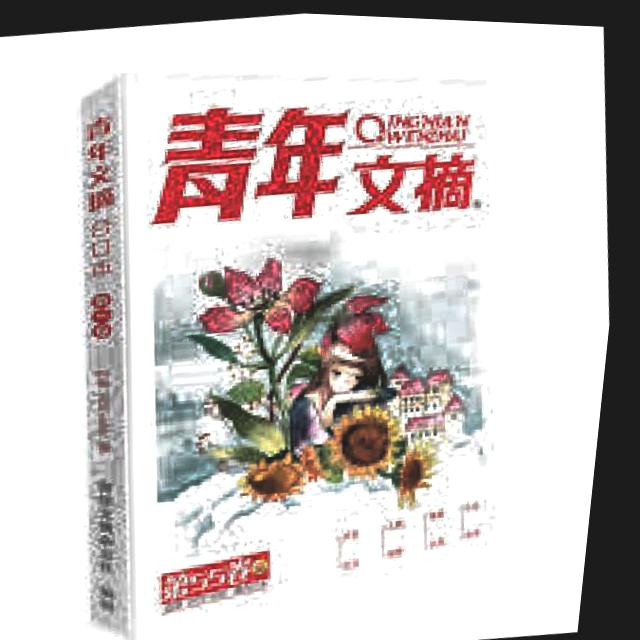Paper: (30, 24, 551, 640)
